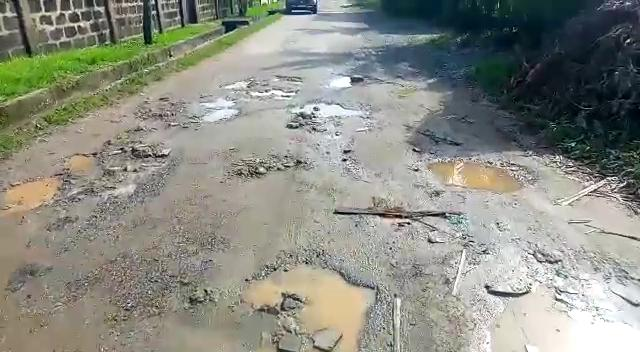pothole: (228, 253, 390, 351), (485, 283, 640, 351), (65, 136, 172, 181), (431, 154, 538, 192), (0, 172, 64, 214), (282, 99, 369, 127), (248, 87, 299, 97), (326, 73, 354, 87), (272, 74, 306, 82)
